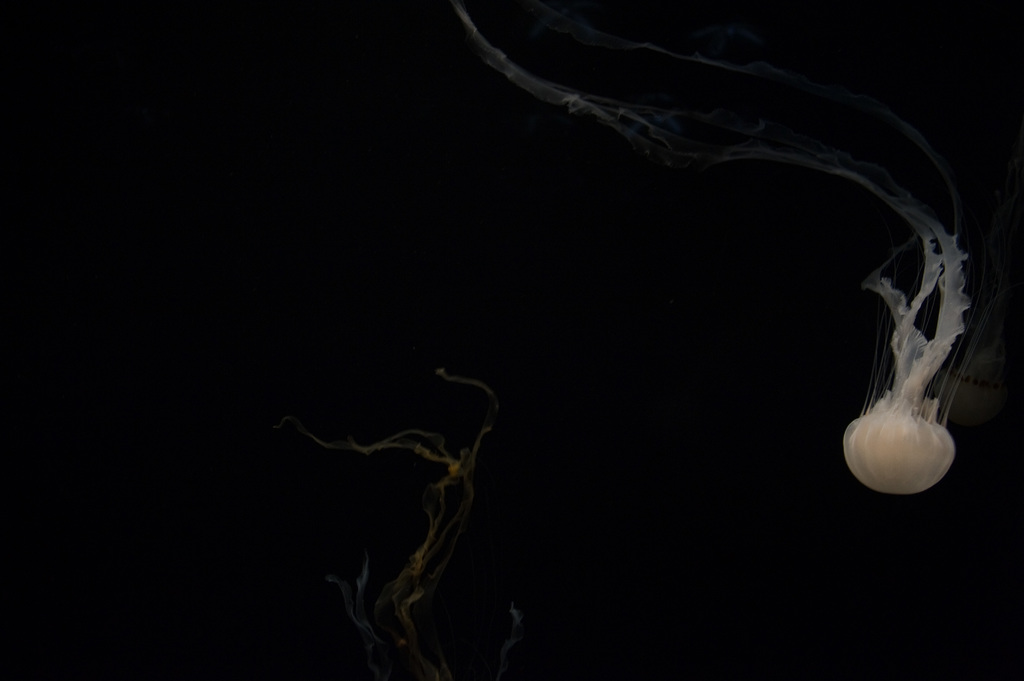Jellyfish: (446, 0, 990, 491), (814, 239, 976, 502)
